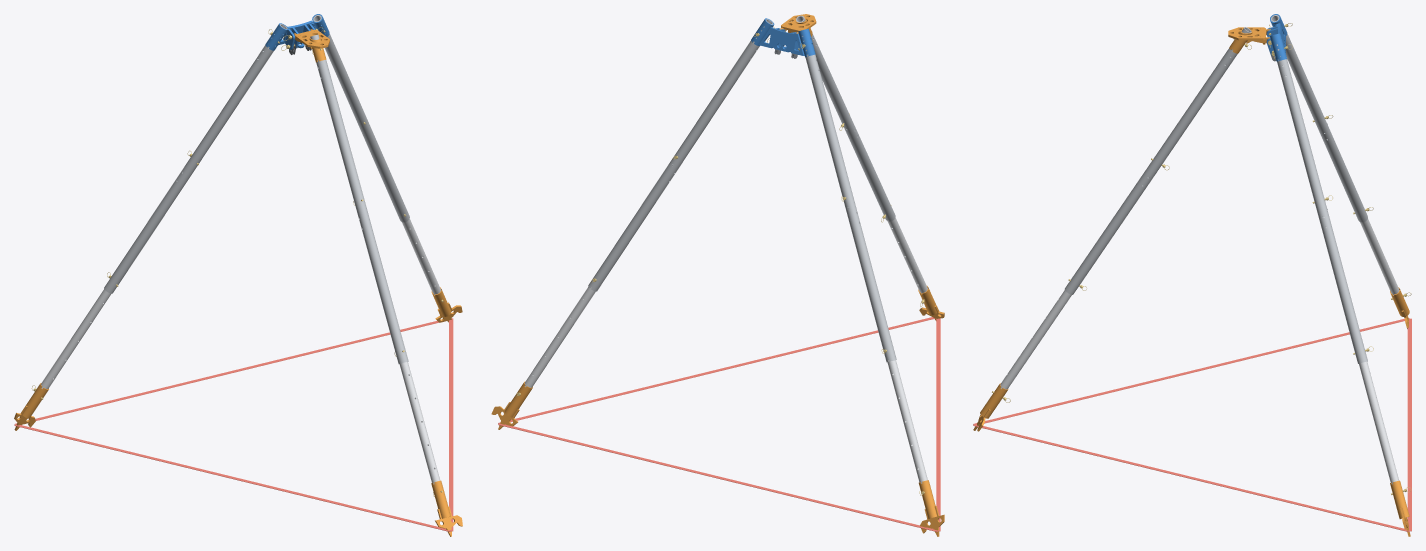
The model's file is tripode_v10.glb.
The picture shows the model from 3 angles, left to right: view 1: azimuth 30°, elevation 25°; view 2: azimuth 150°, elevation 25°; view 3: azimuth 270°, elevation 25°; orthographic projection.
Parts seen in each view (by area): view 1: n41_10G1, n42_10G2, n25_10I1, n26_10I2, n51_M3, n49_M1, n43_13G1, n34_10D2, n33_10D1, n27_13I1, n50_M2, n35_13D1 (+2 smaller); view 2: n25_10I1, n26_10I2, n33_10D1, n34_10D2, n49_M1, n50_M2, n27_13I1, n42_10G2, n35_13D1, n41_10G1, n51_M3, n00_01 (+3 smaller); view 3: n33_10D1, n34_10D2, n41_10G1, n42_10G2, n50_M2, n51_M3, n35_13D1, n26_10I2, n43_13G1, n25_10I1, n49_M1, n27_13I1.
Boxes of the visible parts, left/top/right/bottom form: n41_10G1: left=310, top=34, right=367, bottom=213; n42_10G2: left=357, top=210, right=408, bottom=363; n25_10I1: left=185, top=24, right=287, bottom=172; n26_10I2: left=104, top=166, right=193, bottom=293; n51_M3: left=14, top=424, right=451, bottom=531; n49_M1: left=14, top=321, right=438, bottom=425; n43_13G1: left=399, top=362, right=440, bottom=484; n34_10D2: left=360, top=125, right=409, bottom=222; n33_10D1: left=313, top=15, right=369, bottom=130; n27_13I1: left=41, top=289, right=111, bottom=388; n50_M2: left=449, top=318, right=453, bottom=531; n35_13D1: left=402, top=219, right=441, bottom=294; n25_10I1: left=802, top=35, right=855, bottom=209; n26_10I2: left=846, top=207, right=896, bottom=362; n33_10D1: left=670, top=19, right=773, bottom=168; n34_10D2: left=588, top=163, right=677, bottom=291; n49_M1: left=498, top=423, right=938, bottom=531; n50_M2: left=498, top=317, right=935, bottom=423; n27_13I1: left=887, top=359, right=927, bottom=483; n42_10G2: left=844, top=125, right=895, bottom=221; n35_13D1: left=524, top=287, right=595, bottom=387; n41_10G1: left=796, top=15, right=853, bottom=130; n51_M3: left=936, top=318, right=940, bottom=531; n00_01: left=759, top=27, right=804, bottom=55; n33_10D1: left=1276, top=44, right=1327, bottom=212; n34_10D2: left=1317, top=208, right=1367, bottom=363; n41_10G1: left=1147, top=27, right=1251, bottom=174; n42_10G2: left=1064, top=169, right=1156, bottom=294; n50_M2: left=973, top=424, right=1410, bottom=531; n51_M3: left=973, top=318, right=1409, bottom=425; n35_13D1: left=1359, top=361, right=1398, bottom=484; n26_10I2: left=1318, top=123, right=1367, bottom=222; n43_13G1: left=1000, top=290, right=1071, bottom=389; n25_10I1: left=1271, top=15, right=1327, bottom=130; n49_M1: left=1407, top=318, right=1411, bottom=531; n27_13I1: left=1360, top=219, right=1399, bottom=295.
Bounding box in the file's own units: 2978 × 2586 × 2527.
